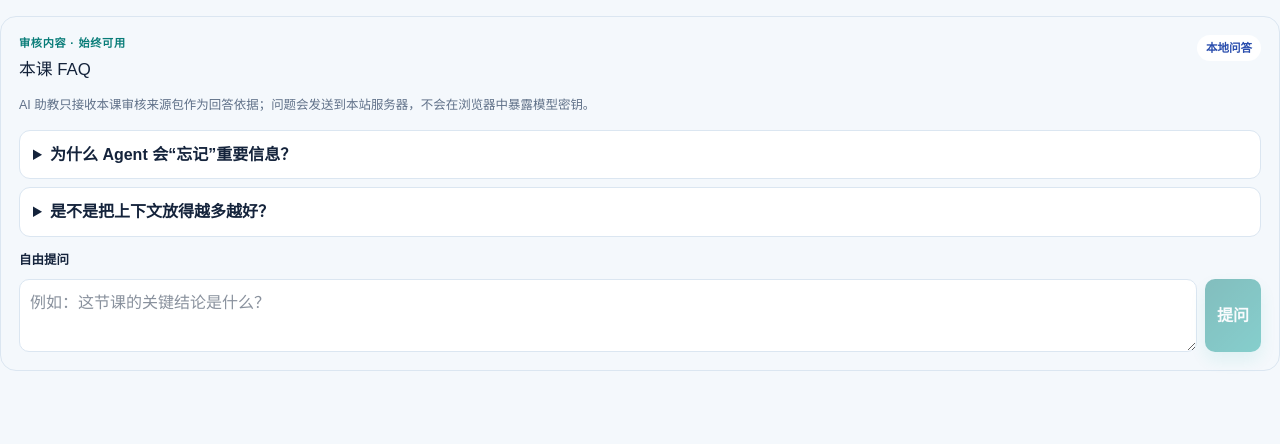
FaqPanel › serves only the audited 1-1 FAQ without making a network request
Click the heading "为什么 Agent 会“忘记”重要信息？". click: (173, 154)
box: [50,146,296,163]
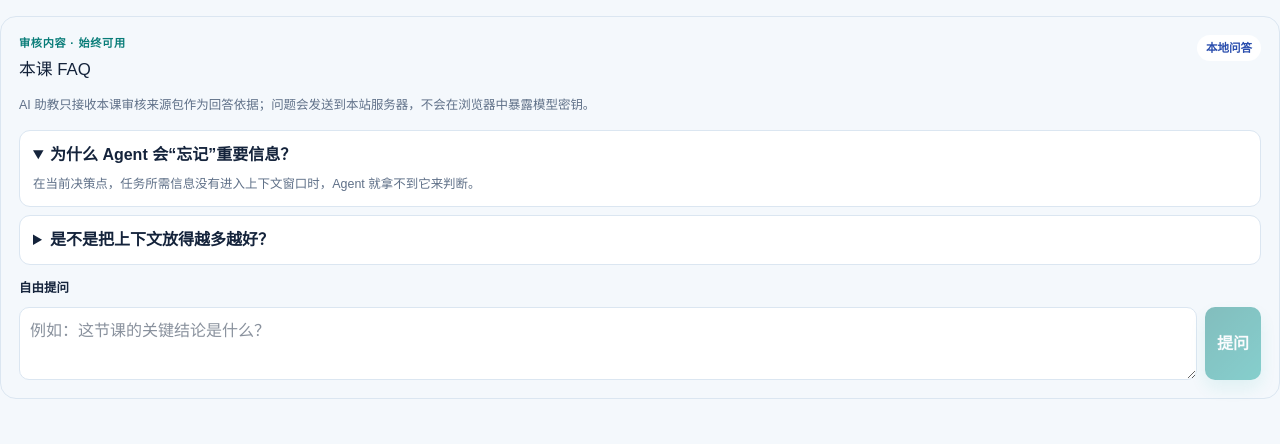
Result: the text "在当前决策点，任务所需信息没有进入上下文窗口时，Agent 就拿不到它来判断。" is shown at [33,177,480,191]
Click the heading "是不是把上下文放得越多越好？". click: (162, 240)
box: [50,231,274,248]
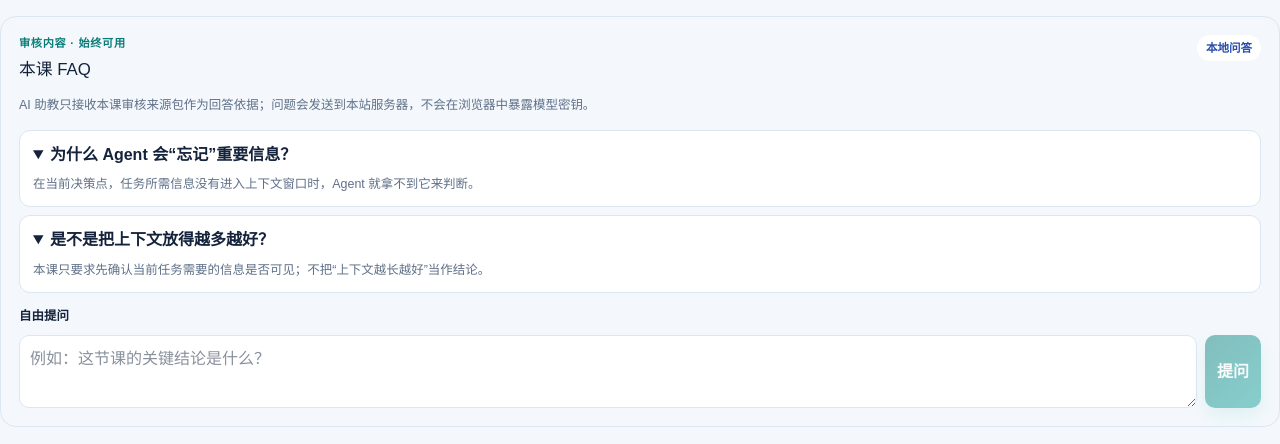
Result: the text "本课只要求先确认当前任务需要的信息是否可见；不把“上下文越长越好”当作结论。" is shown at [33,263,490,277]
